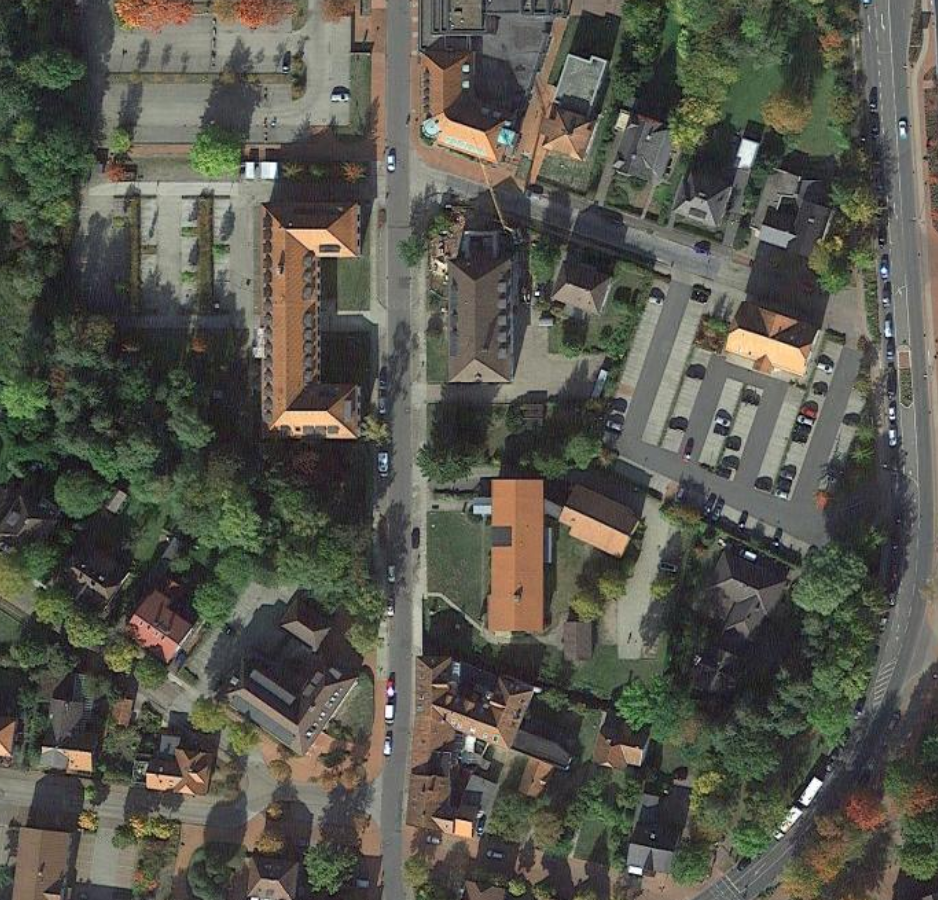car: (378, 452, 389, 479), (605, 420, 623, 433), (659, 561, 677, 573), (384, 704, 394, 725), (386, 155, 397, 173), (817, 361, 832, 374), (715, 415, 730, 427), (383, 736, 392, 756), (329, 93, 349, 102), (647, 296, 663, 307), (386, 680, 395, 699), (387, 565, 396, 583), (898, 120, 907, 138), (378, 398, 387, 415), (888, 429, 896, 447)
